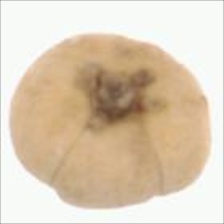L5: (47, 121, 167, 211), (75, 61, 161, 133)
L6: (8, 31, 213, 211)
